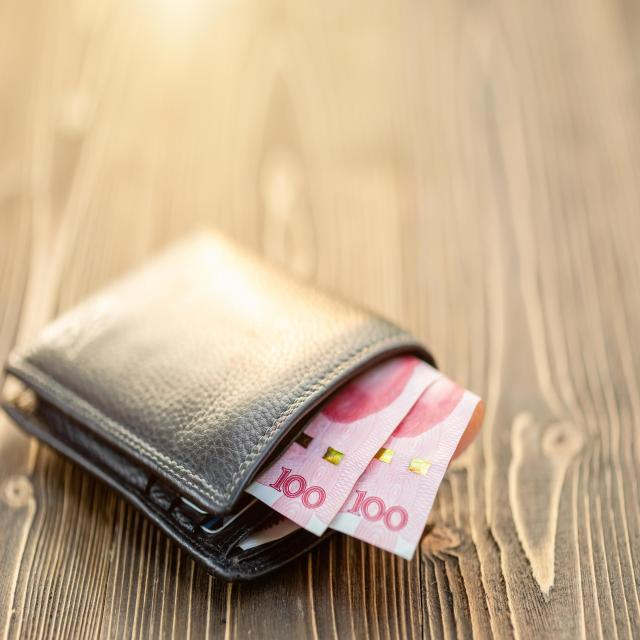cuzdan: (4, 168, 494, 612)
